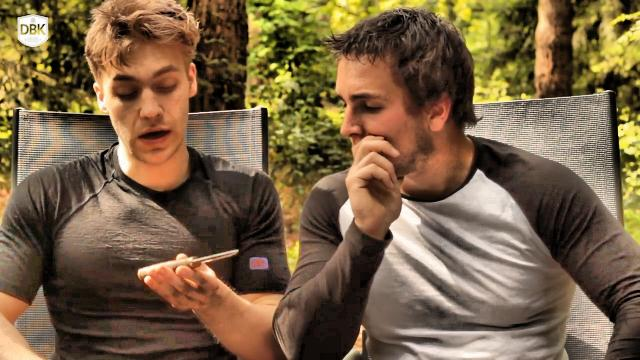knife: (130, 238, 250, 290)
